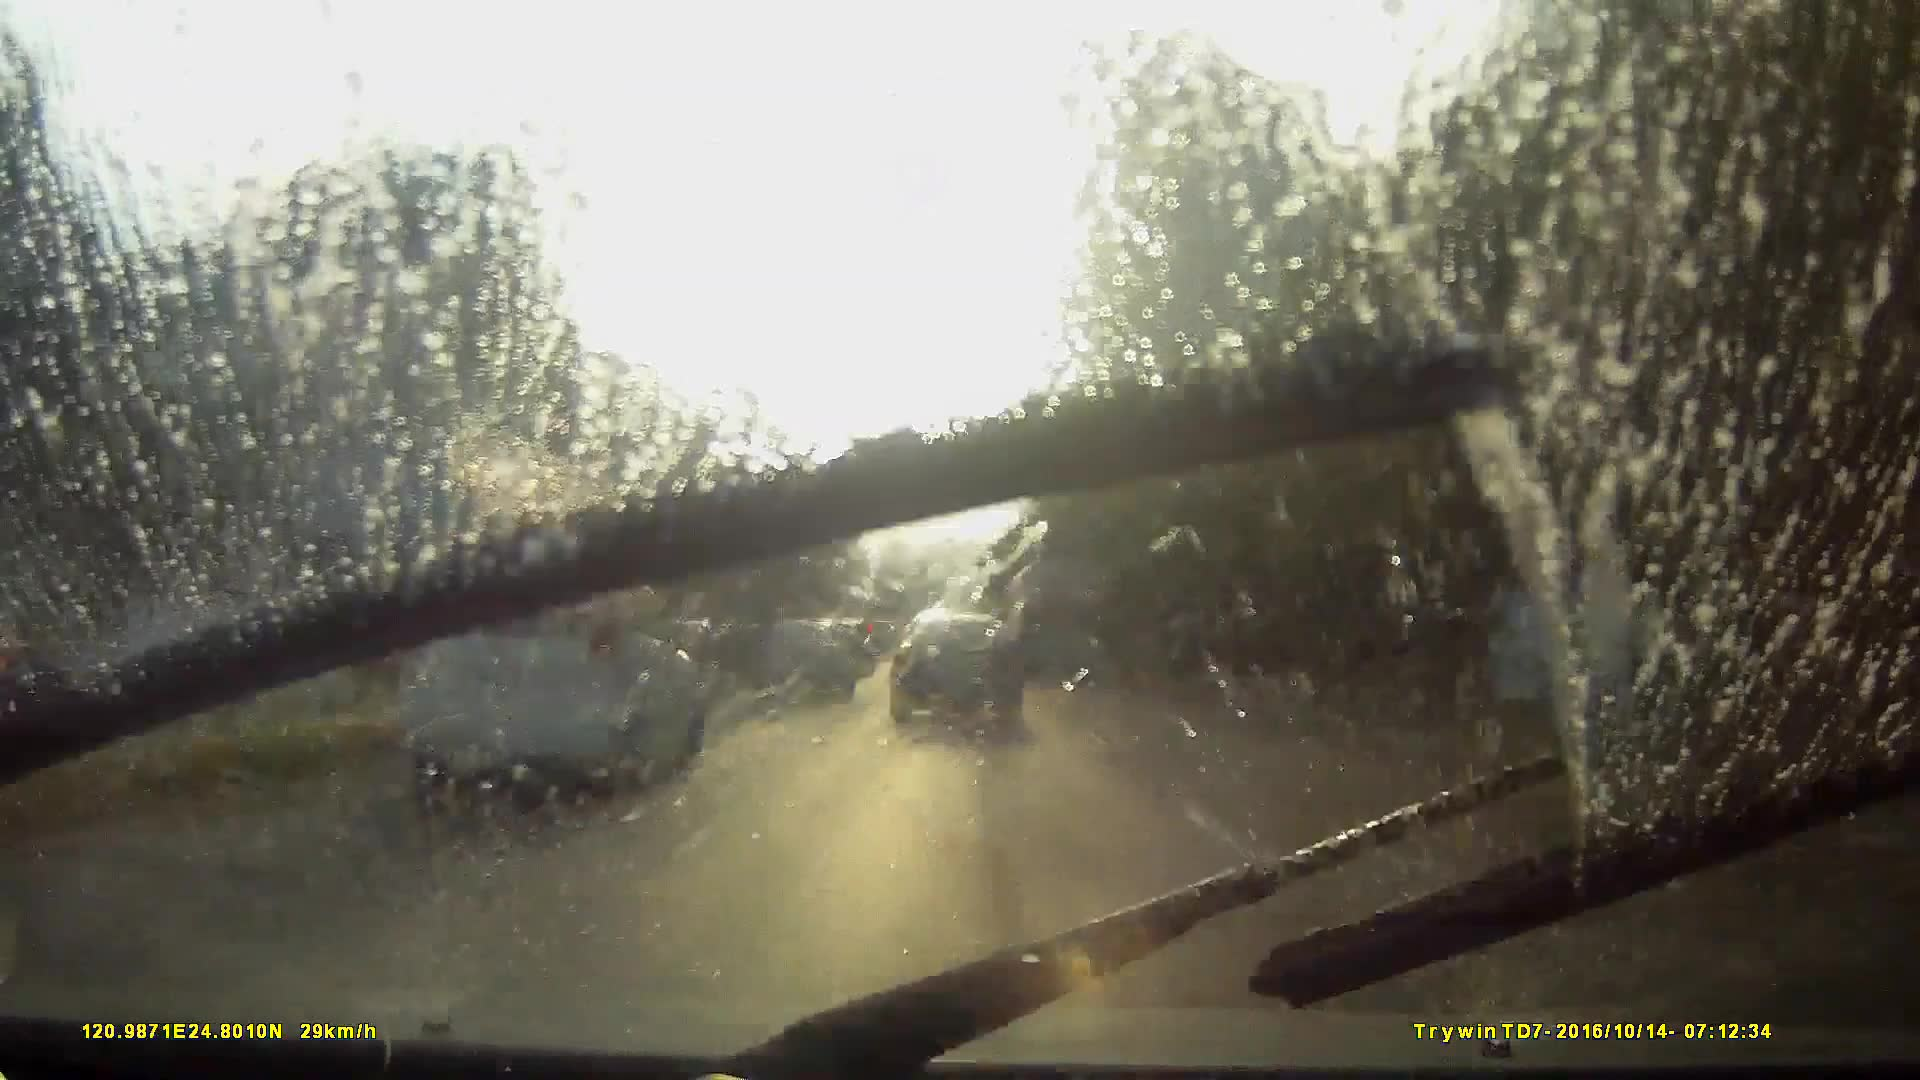vehicle: (199, 418, 645, 732), (251, 556, 684, 868), (402, 562, 708, 791), (890, 607, 1022, 737), (1004, 564, 1109, 690), (744, 624, 852, 711), (866, 638, 915, 687)
